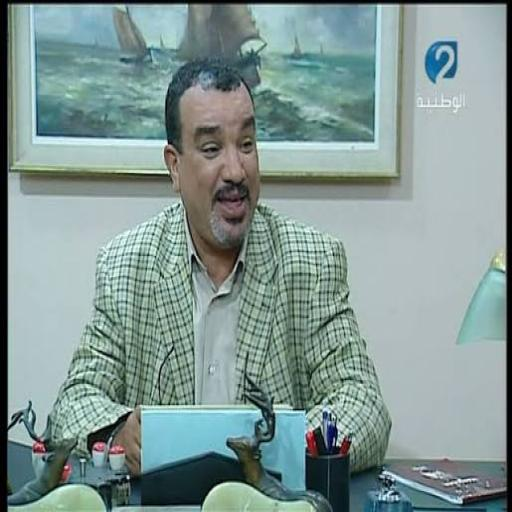slimane: (165, 59, 259, 266)
